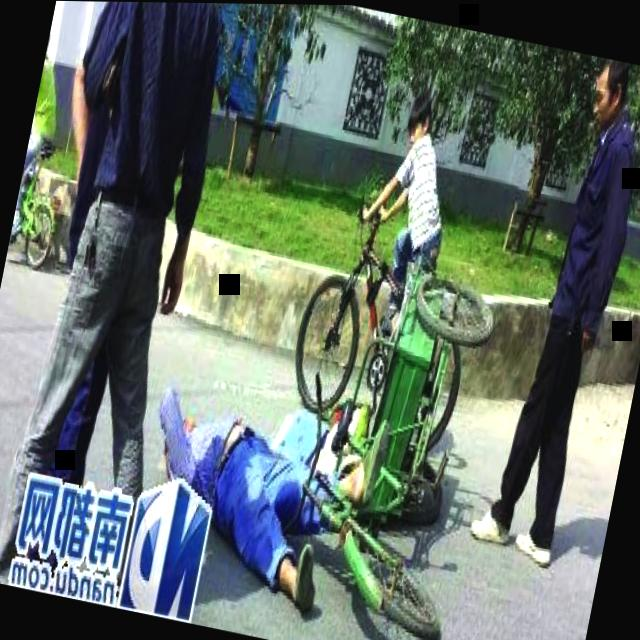Fall-Detected: (124, 335, 376, 627)
